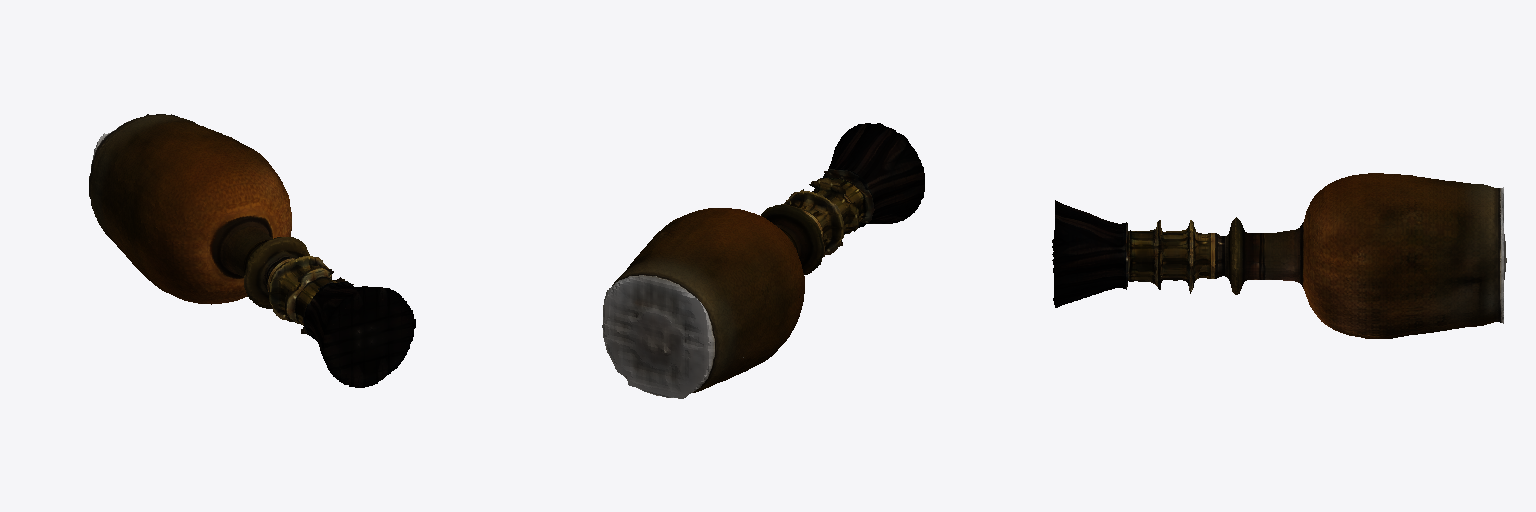
3 renders of one model, left to right at view 1: azimuth 30°, elevation 25°; view 2: azimuth 150°, elevation 25°; view 3: azimuth 270°, elevation 25°, orthographic.
Size of the model in its own units: 0.7102 by 0.7212 by 2.
Materials: 1 (1 with a texture image).